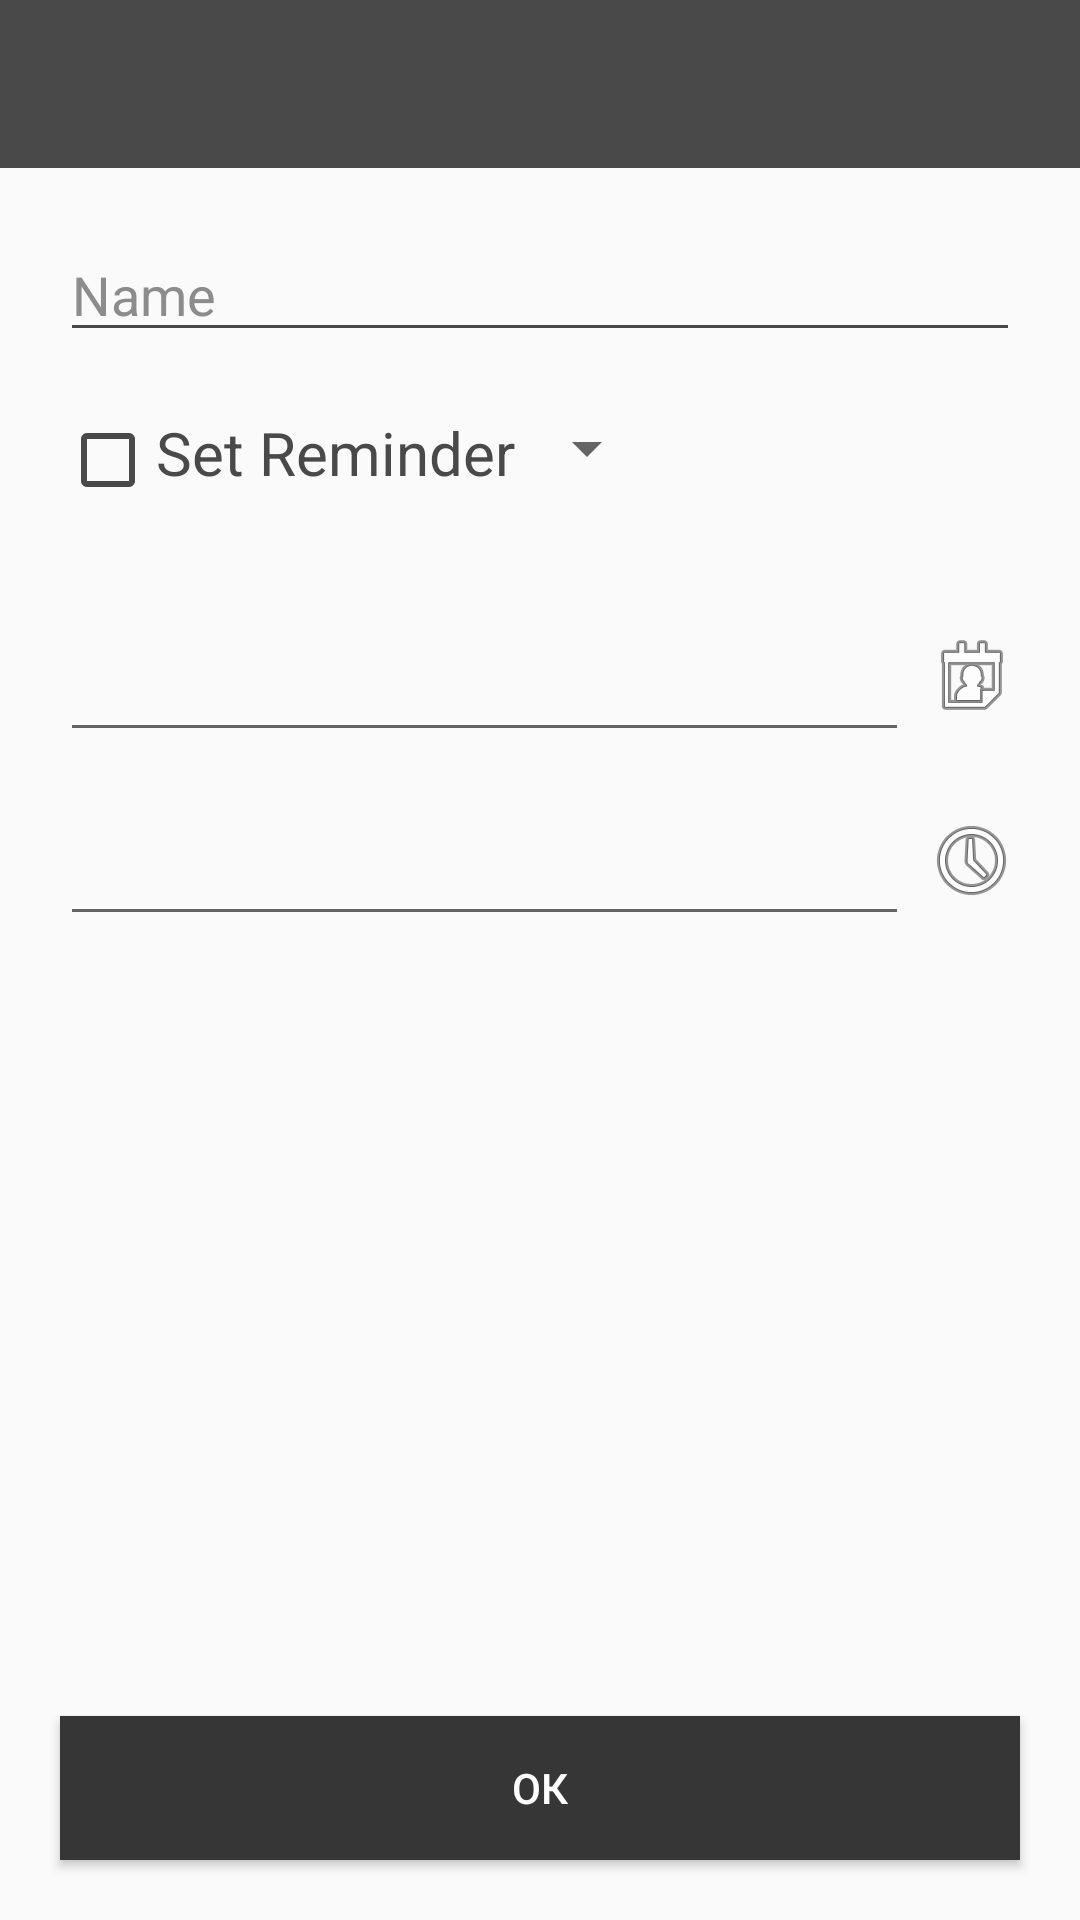

Screen size 1080 x 1920. Icon name, then its box in pixels as (x1, y1, x2, y2):
calendar: (941, 640, 1003, 710)
